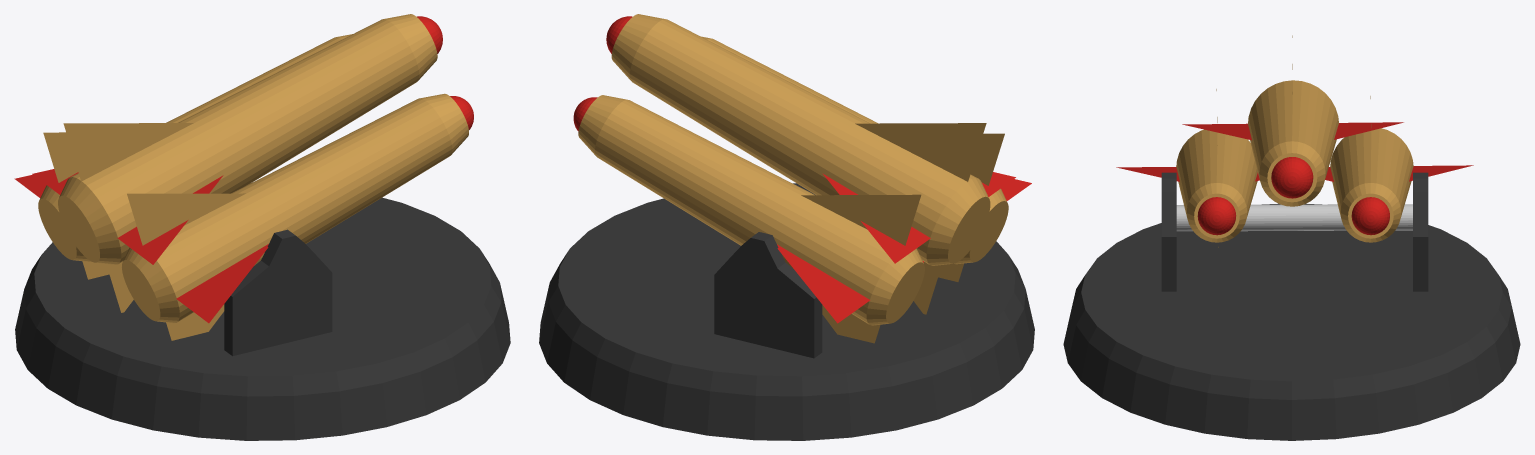
Rendered from missile_gun.obj.
3 renders of one model, left to right at view 1: azimuth 30°, elevation 25°; view 2: azimuth 150°, elevation 25°; view 3: azimuth 270°, elevation 25°, orthographic. The views are drawn at different scales.
Visible parts, largest first — view 1: Base, Missile2, Missile1, Missile3; view 2: Base, Missile2, Missile3, Missile1; view 3: Base, Missile2, Missile3, Missile1.
Boxes of the visible parts, x1=… form: Base: x1=15, y1=197, x2=510, y2=440; Missile2: x1=32, y1=14, x2=442, y2=312; Missile1: x1=122, y1=93, x2=473, y2=340; Missile3: x1=14, y1=34, x2=352, y2=279; Base: x1=539, y1=183, x2=1034, y2=440; Missile2: x1=606, y1=14, x2=1015, y2=314; Missile3: x1=573, y1=95, x2=924, y2=343; Missile1: x1=701, y1=36, x2=1031, y2=281; Base: x1=1063, y1=172, x2=1520, y2=440; Missile2: x1=1182, y1=35, x2=1403, y2=206; Missile3: x1=1325, y1=96, x2=1473, y2=242; Missile1: x1=1116, y1=89, x2=1259, y2=247.
Bounding box in the file's own units: 2 × 1.26 × 2.
